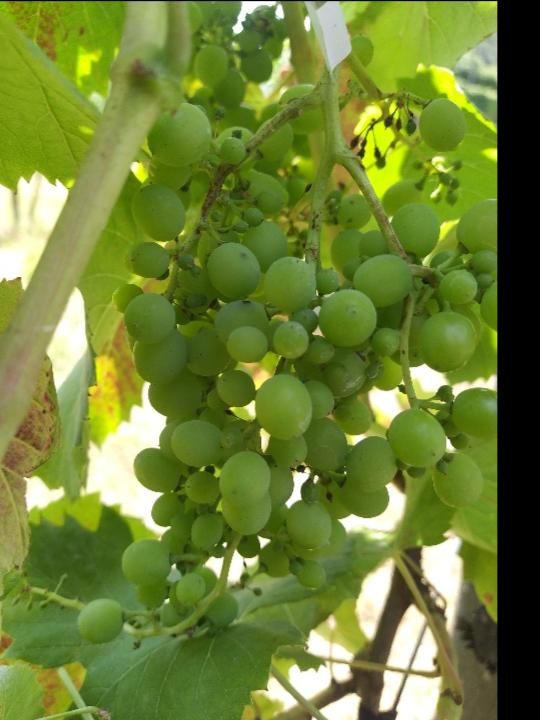grape: (72, 83, 493, 650)
